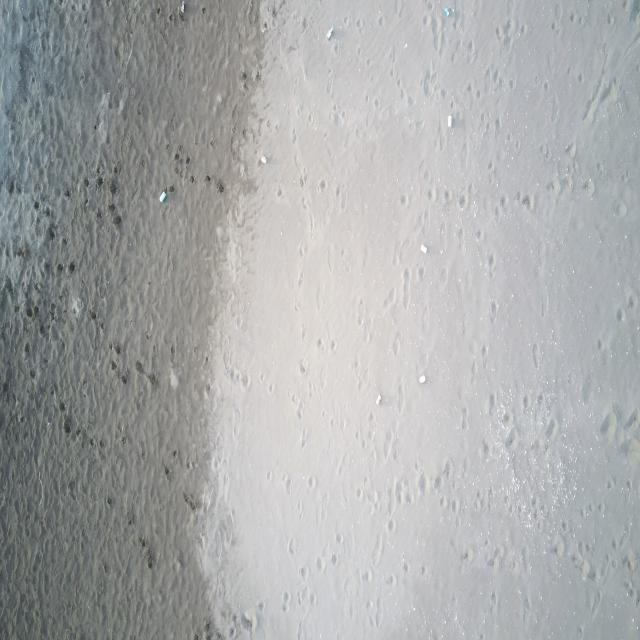tin-and-aluminum-cans: (158, 190, 167, 203), (326, 27, 334, 40), (180, 1, 186, 13), (419, 375, 426, 385), (422, 242, 428, 253), (261, 154, 267, 165), (377, 393, 382, 406)
